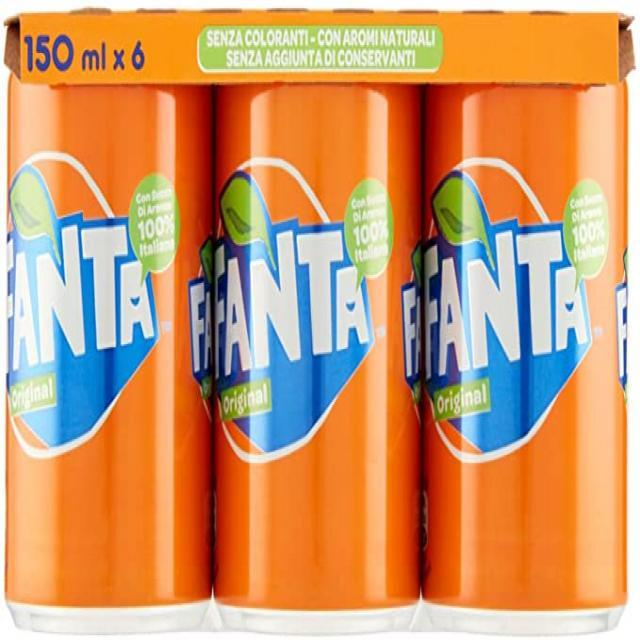Fanta: (2, 64, 217, 624), (424, 82, 632, 637), (214, 79, 420, 637)
